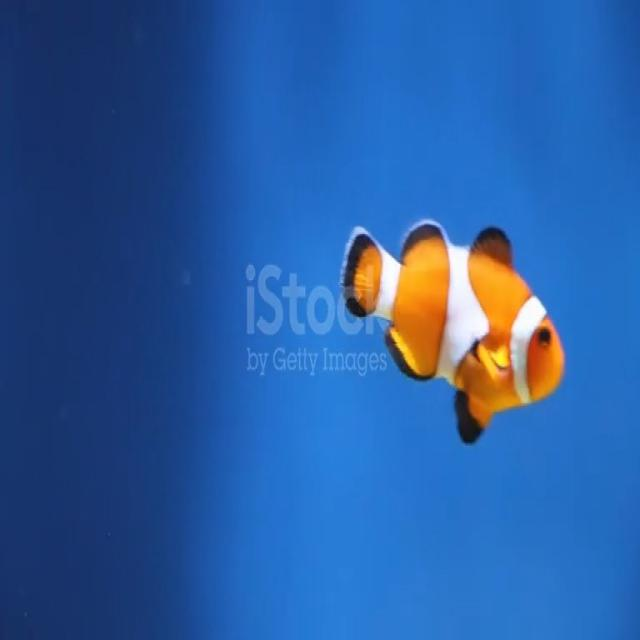fish: (342, 210, 570, 446)
